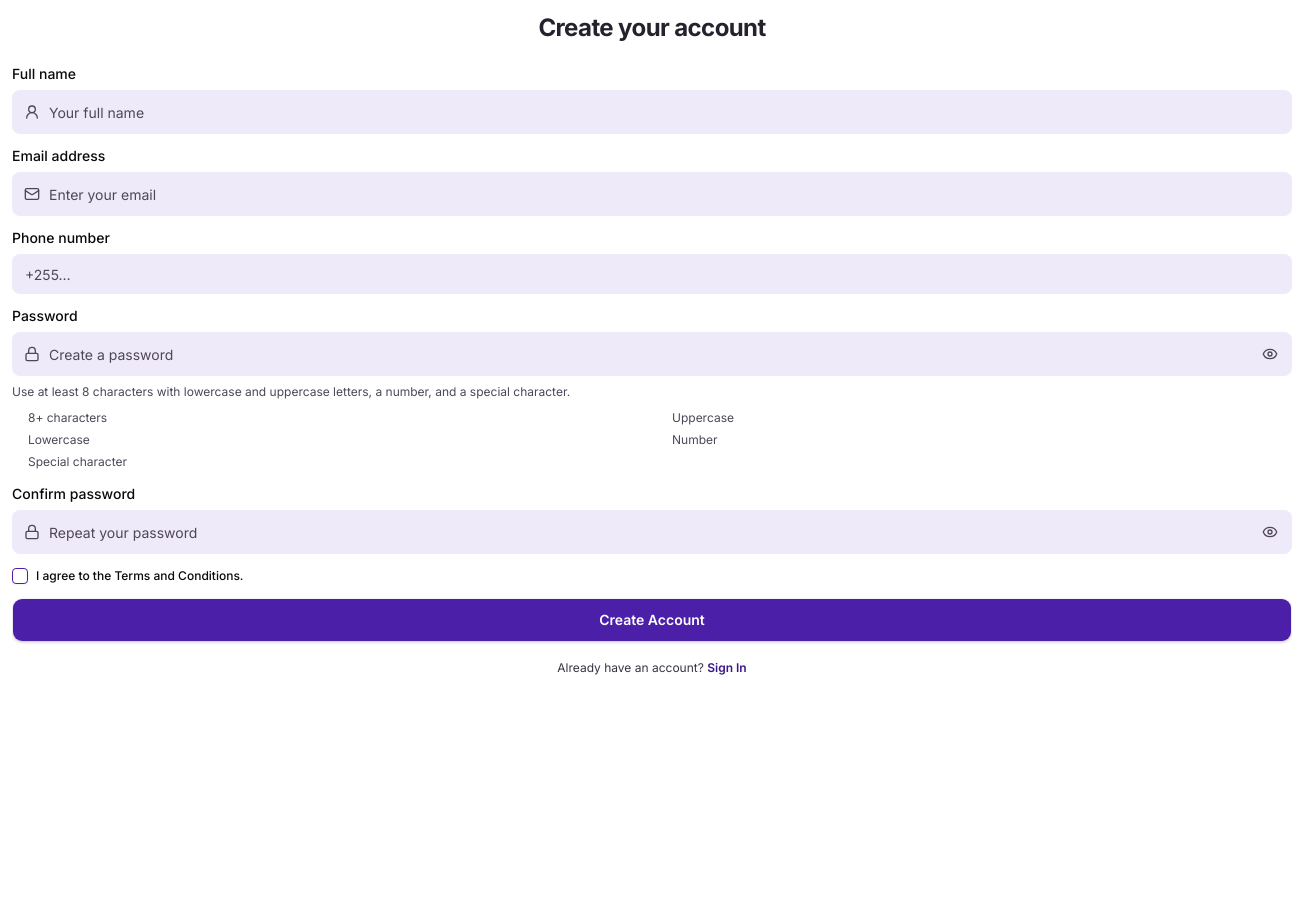
Test case: RegisterForm › shows errors for empty required fields
Click the button "Create Account". click: (652, 620)
box: x1=12 y1=598 x2=1292 y2=642
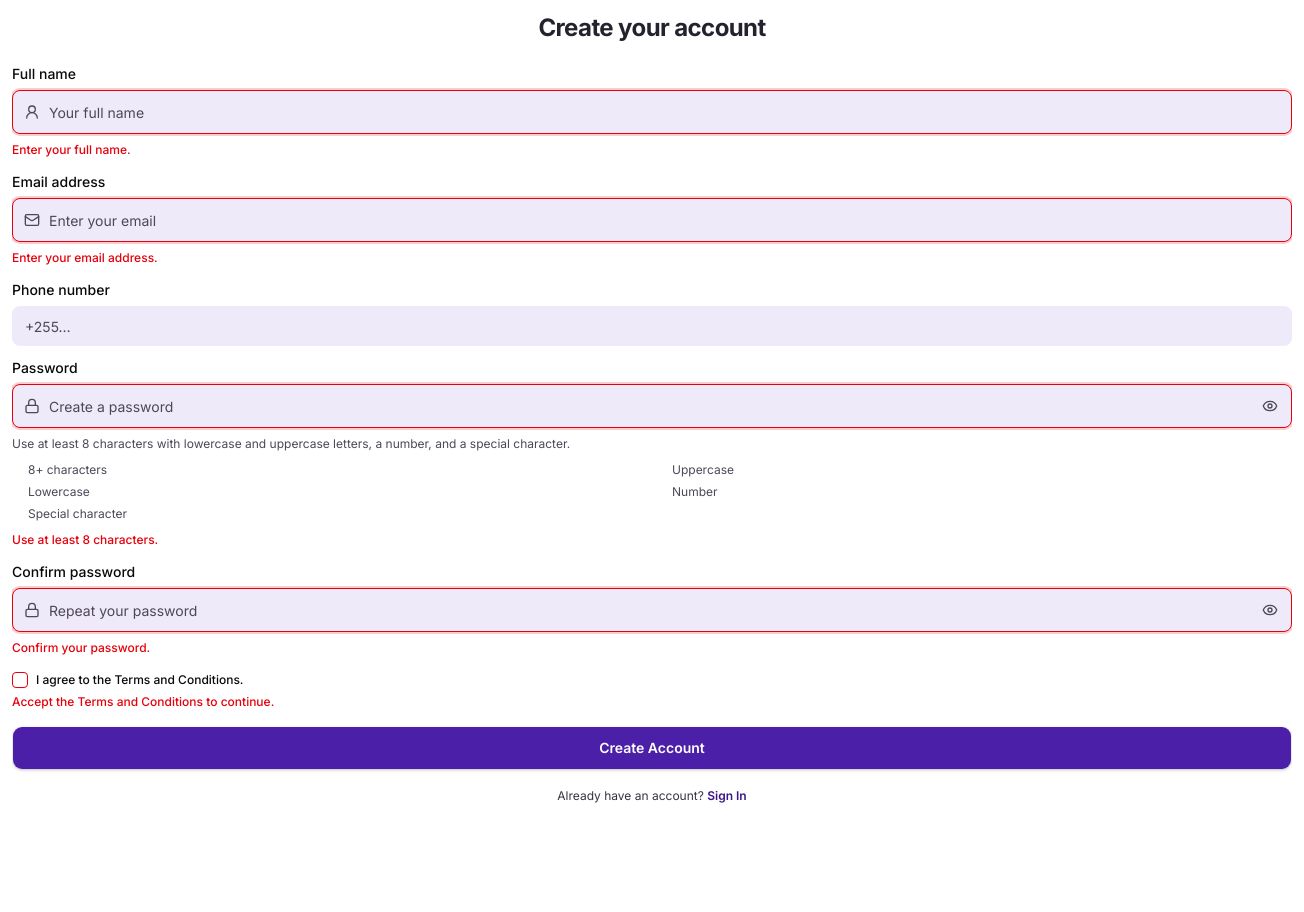
Expected: the text "Enter your full name." is shown, x1=12 y1=142 x2=131 y2=157
Expected: the text "Enter your email address." is shown, x1=12 y1=250 x2=158 y2=265
Expected: the text "Use at least 8 characters." is shown, x1=12 y1=532 x2=158 y2=547
